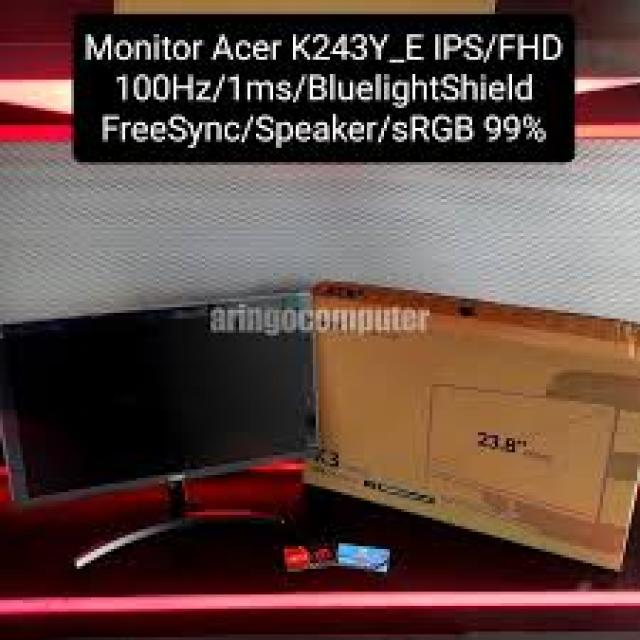monitor: (1, 279, 329, 566)
